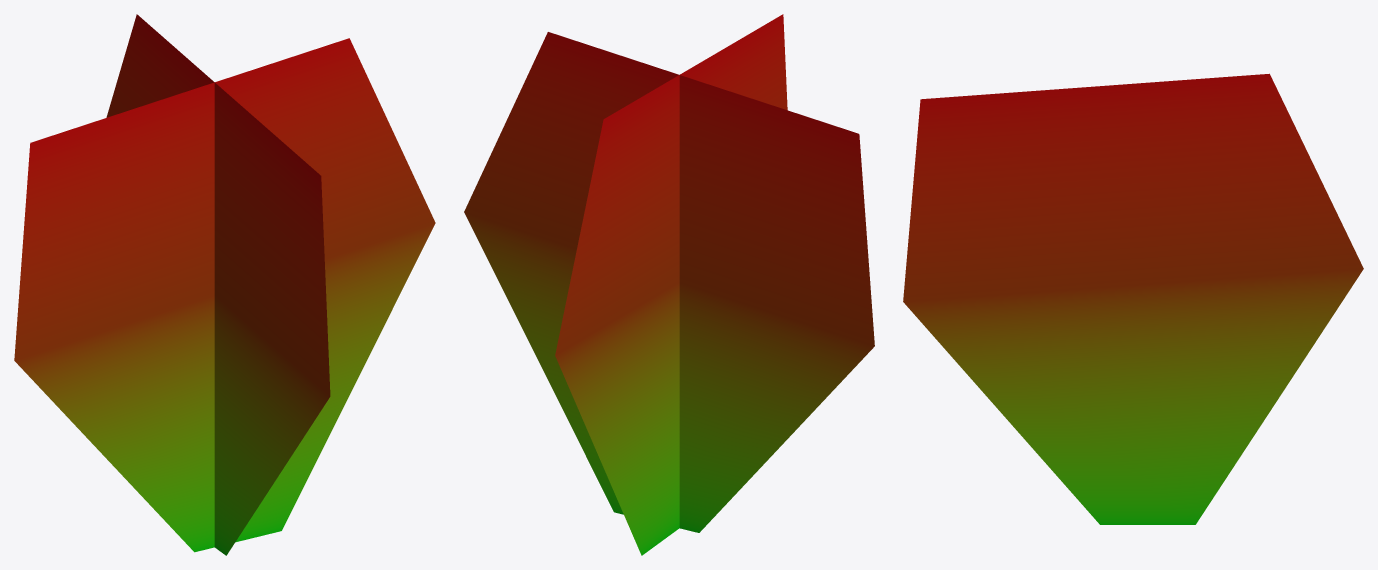
The model's file is Var3_LOD5.fbx.
3 views of the same model, side by side, from view 1: azimuth 30°, elevation 25°; view 2: azimuth 150°, elevation 25°; view 3: azimuth 270°, elevation 25° (orthographic). The views are drawn at different scales.
Parts seen in each view (by area): view 1: _409z_Var3_LOD5; view 2: _409z_Var3_LOD5; view 3: _409z_Var3_LOD5.
Part boxes in pixels (bbox=[...]): _409z_Var3_LOD5: bbox=[14, 14, 435, 555]; _409z_Var3_LOD5: bbox=[464, 14, 874, 555]; _409z_Var3_LOD5: bbox=[903, 73, 1363, 524].
Bounding box in the file's own units: 76.25 × 82.39 × 76.25.
